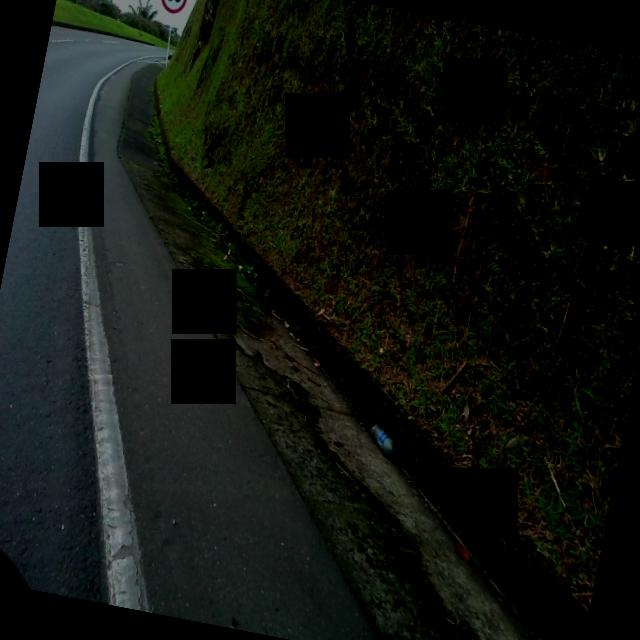DITCH: (23, 50, 640, 640), (0, 117, 640, 640)
